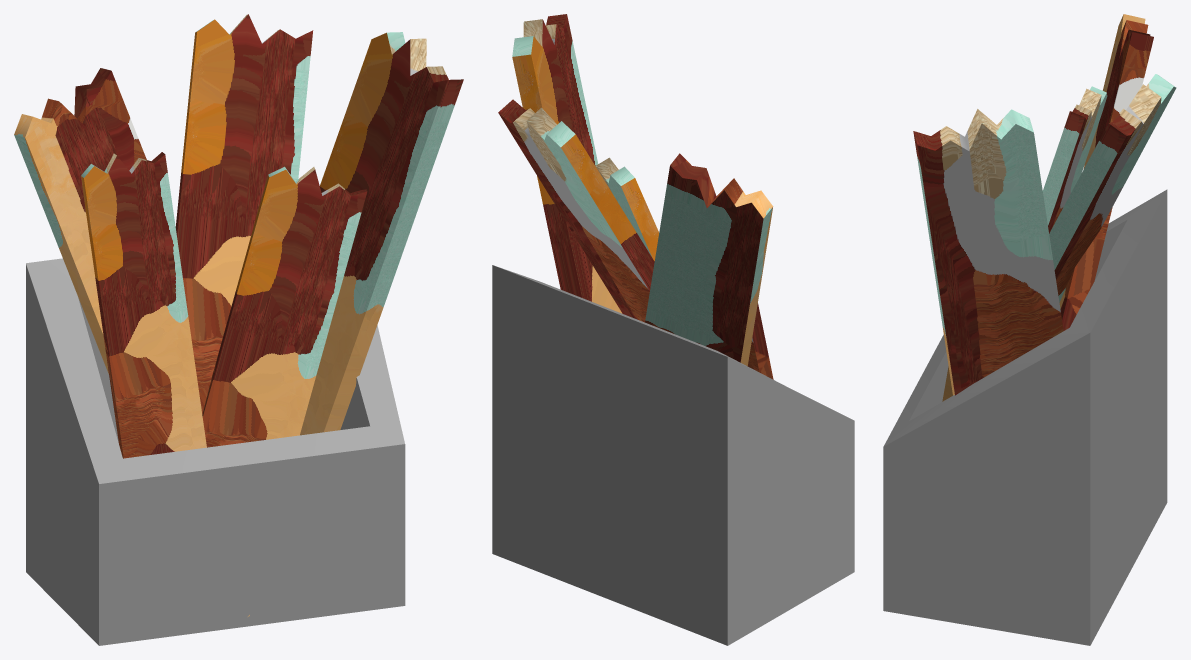
File: Wood Pile.fbx
3 renders of one model, left to right at view 1: azimuth 30°, elevation 25°; view 2: azimuth 150°, elevation 25°; view 3: azimuth 270°, elevation 25°, orthographic. The views are drawn at different scales.
Parts seen in each view (by area): view 1: polySurface67; view 2: polySurface67; view 3: polySurface67.
Boxes of the visible parts, x1,y1,x2,y2 form: polySurface67: [14, 14, 463, 645]; polySurface67: [492, 14, 854, 645]; polySurface67: [883, 14, 1176, 645].
Size of the model in its own units: 0.8817 by 1.36 by 0.6371.
